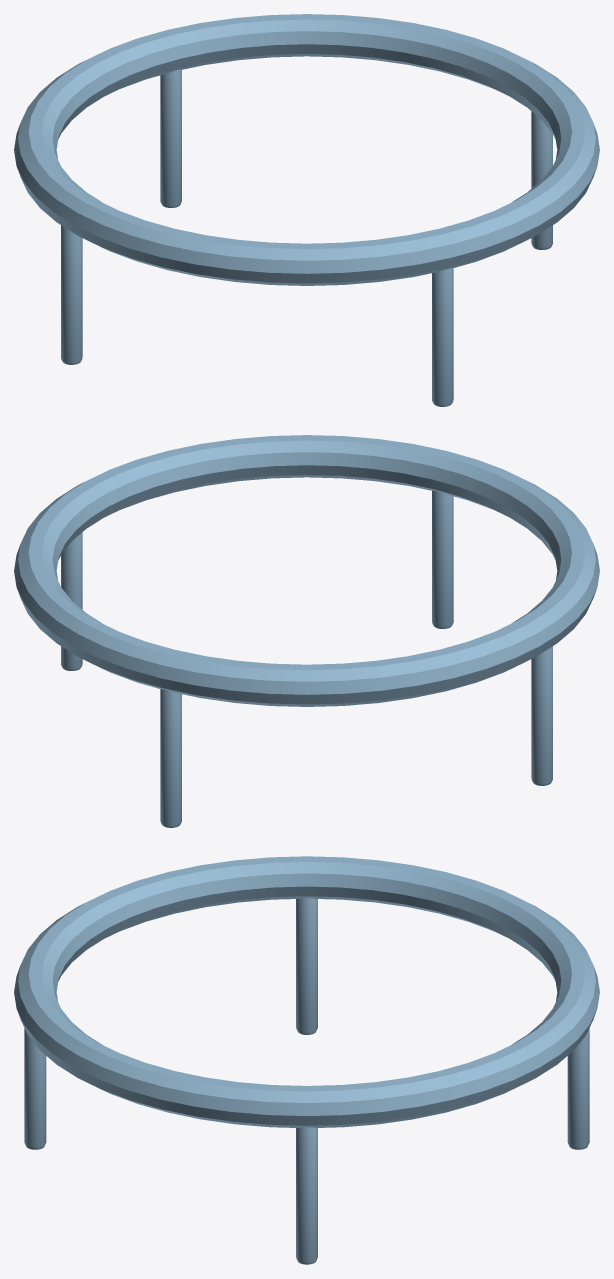
Rendered from pinball_bumper_ring.obj.
The picture shows the model from 3 angles, top to bottom: view 1: azimuth 30°, elevation 25°; view 2: azimuth 150°, elevation 25°; view 3: azimuth 270°, elevation 25°; orthographic projection.
Parts seen in each view (by area): view 1: PinballBumperRing; view 2: PinballBumperRing; view 3: PinballBumperRing.
Part boxes in pixels (bbox=[...]): PinballBumperRing: bbox=[14, 14, 599, 406]; PinballBumperRing: bbox=[14, 435, 599, 827]; PinballBumperRing: bbox=[14, 856, 599, 1264].
Bounding box in the file's own units: 1.51 × 0.4923 × 1.51.
1 material, 1 textured.
